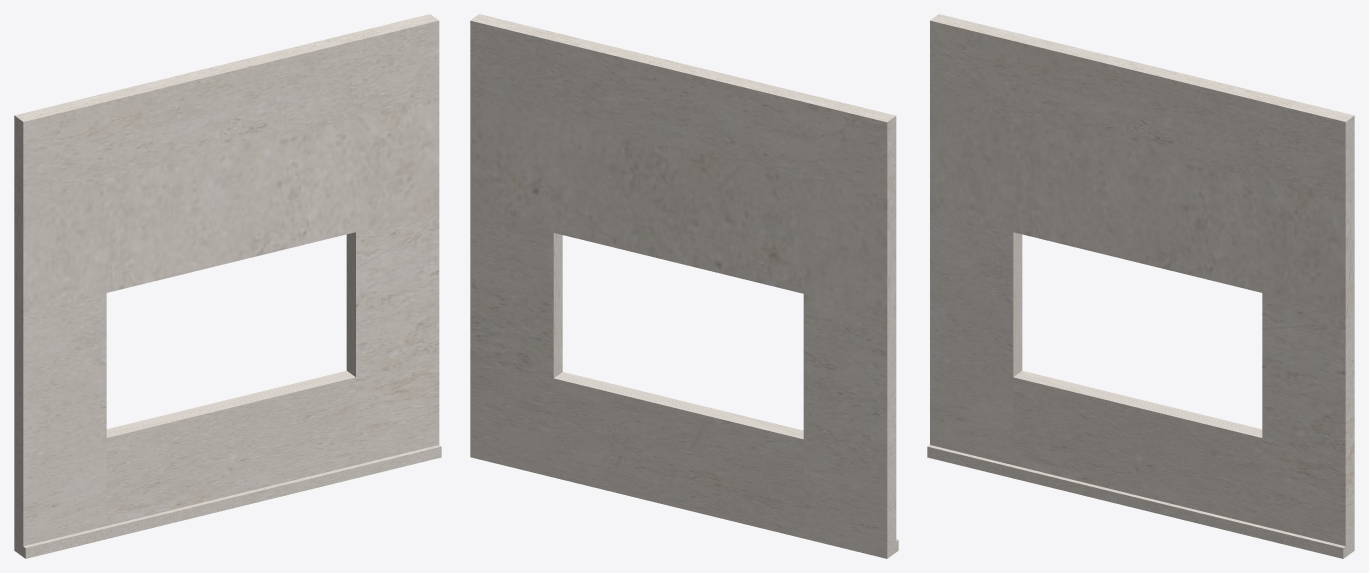
The model's file is Atelier_modular_window.fbx.
3 renders of one model, left to right at view 1: azimuth 30°, elevation 25°; view 2: azimuth 150°, elevation 25°; view 3: azimuth 330°, elevation 25°, orthographic.
Parts seen in each view (by area): view 1: Atelier_modular_window; view 2: Atelier_modular_window; view 3: Atelier_modular_window.
Part boxes in pixels (x1,y1,x2,y2): Atelier_modular_window: (14, 14, 441, 558); Atelier_modular_window: (470, 14, 898, 558); Atelier_modular_window: (927, 14, 1354, 558).
Size of the model in its own units: 400 by 400 by 19.
Materials: 1 (1 with a texture image).
